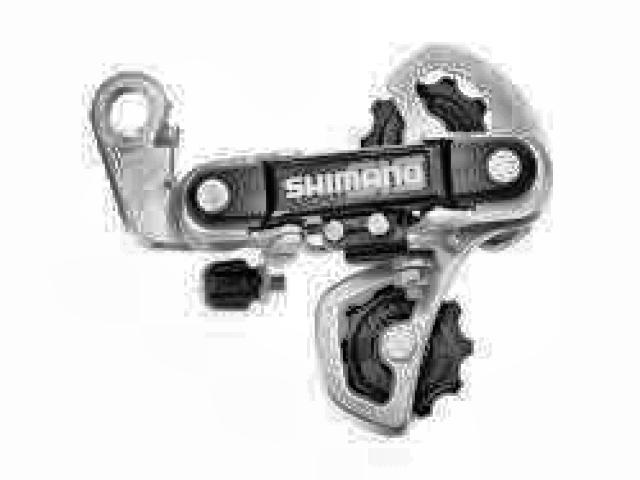rear_derailleur: (87, 39, 558, 435)
